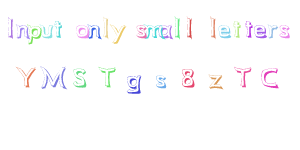8: (179, 63, 199, 91)
C: (257, 66, 287, 94)
I: (3, 15, 16, 42)
M: (39, 61, 66, 93)
S: (69, 64, 91, 89)
T: (96, 61, 118, 89), (231, 63, 254, 88)
Y: (13, 59, 36, 89)
a: (159, 19, 173, 42)
e: (217, 21, 233, 41), (254, 22, 266, 43)
g: (125, 71, 147, 97)
l: (184, 15, 197, 42), (205, 14, 218, 41), (100, 16, 112, 43), (172, 16, 183, 42)
m: (147, 21, 161, 43)
n: (13, 20, 28, 41), (88, 20, 102, 42)
o: (73, 21, 88, 40)
p: (27, 22, 41, 47)
r: (265, 20, 280, 41)
s: (152, 71, 171, 92), (134, 19, 147, 43), (279, 20, 293, 40)
t: (52, 16, 66, 41), (243, 17, 254, 37), (233, 19, 243, 40)
u: (41, 20, 53, 43)
y: (110, 22, 127, 46)
z: (204, 69, 229, 94)
